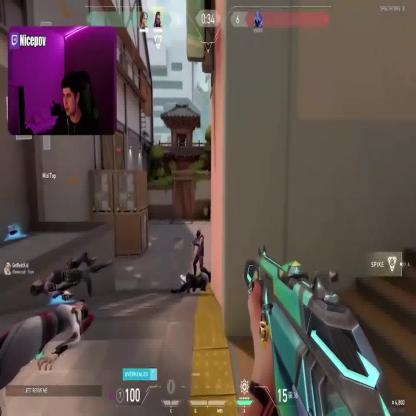enemy: (191, 228, 211, 284)
enemy_head: (196, 230, 202, 238)
